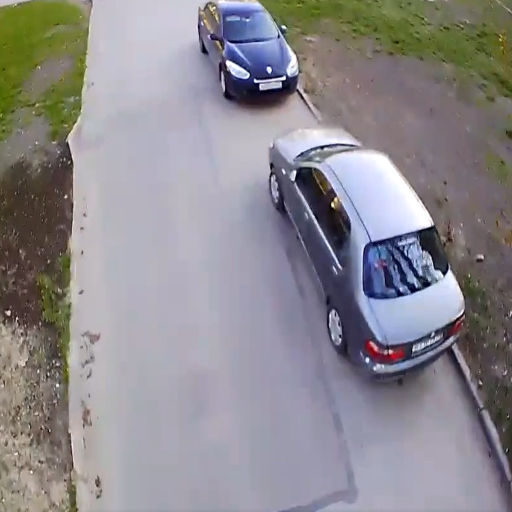Car: (264, 123, 465, 381), (197, 0, 300, 107)
